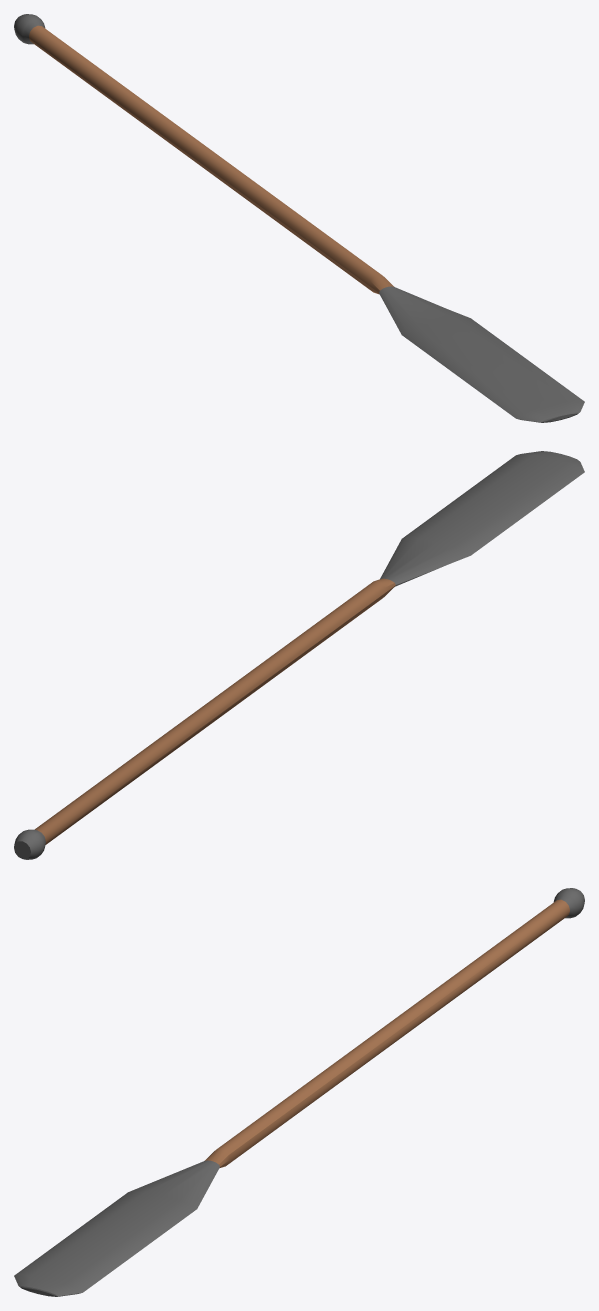
File: Paddle_01.fbx
The picture shows the model from 3 angles, top to bottom: view 1: azimuth 30°, elevation 25°; view 2: azimuth 150°, elevation 25°; view 3: azimuth 330°, elevation 25°; orthographic projection.
Visible parts, largest first — view 1: Paddle_01_LOD0; view 2: Paddle_01_LOD0; view 3: Paddle_01_LOD0.
Part boxes in pixels (x1,y1,x2,y2): Paddle_01_LOD0: (14, 14, 584, 422); Paddle_01_LOD0: (14, 451, 584, 859); Paddle_01_LOD0: (14, 888, 584, 1296).
Size of what is drawn, in the model's own units: 0.145 by 0.0557 by 1.96.
